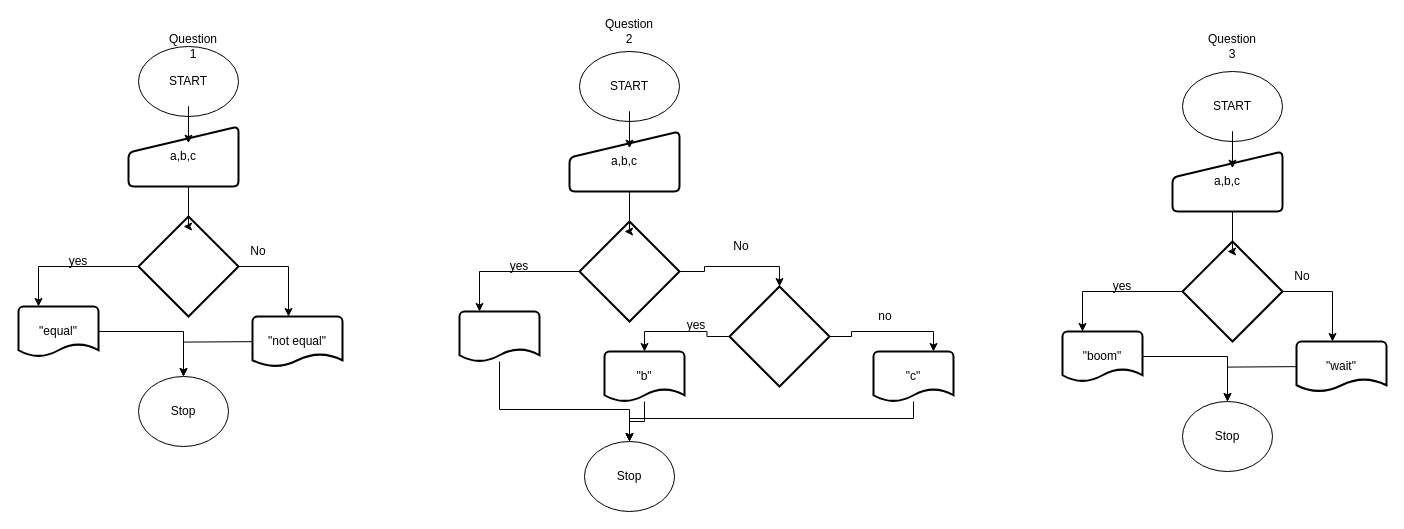
The diagram is 1404 pixels wide and 529 high, and some of its shapes have lost their labels. The shapes that lost their labels are listed below. From the top down, each one's box as (x1, y1, x2, y2) in pixels, then its label:
(137, 215, 239, 317): a==b and b==c
(578, 220, 680, 322): a<b and a<c
(1181, 240, 1283, 342): a==0 or b==0 or c==0
(458, 310, 540, 362): "a"
(728, 285, 830, 387): b<c
